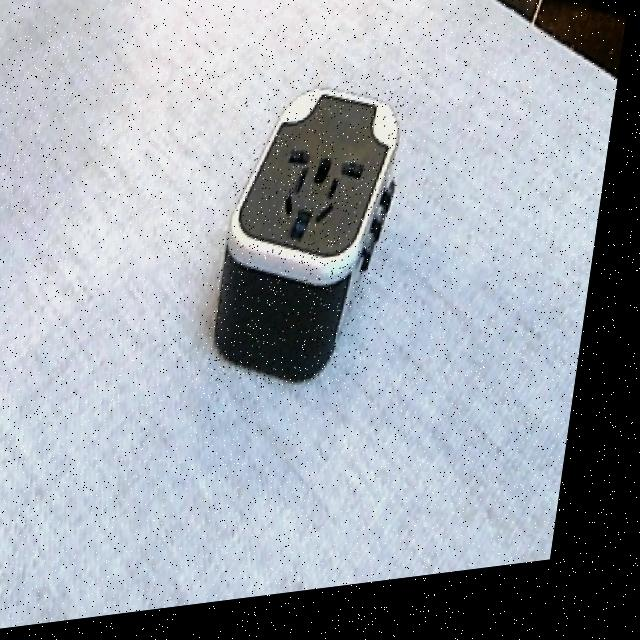adapter: (213, 83, 416, 402)
